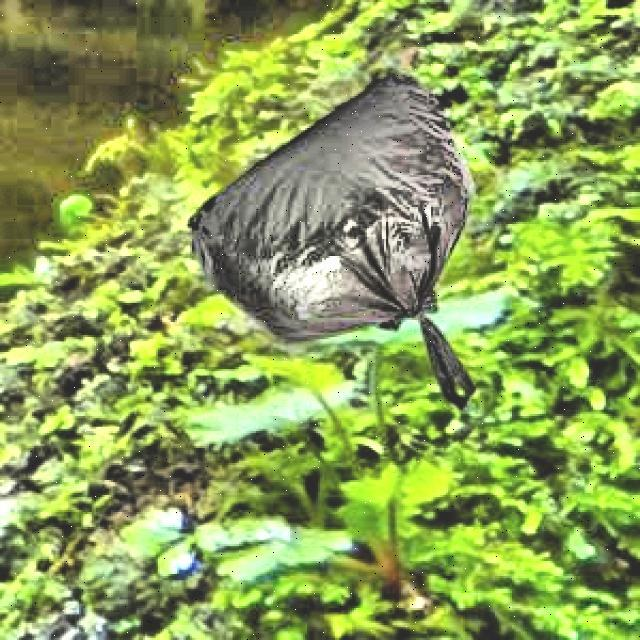Trashbag: (168, 68, 506, 374)
